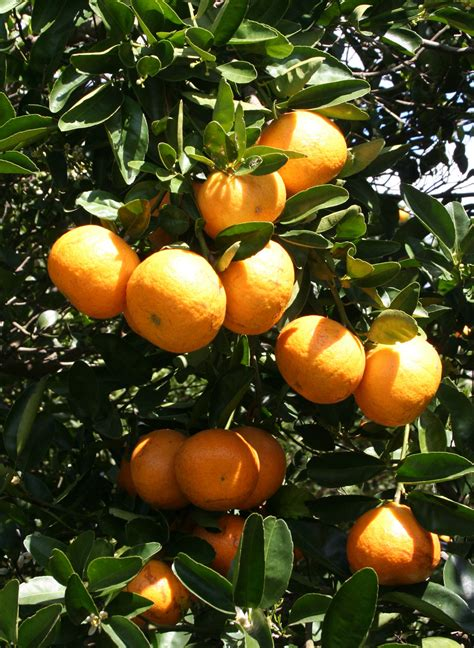orange: (122, 246, 225, 354), (253, 108, 355, 201), (49, 222, 139, 325), (215, 238, 298, 340), (353, 500, 450, 584), (363, 334, 445, 431), (282, 315, 368, 405), (178, 427, 264, 510)
